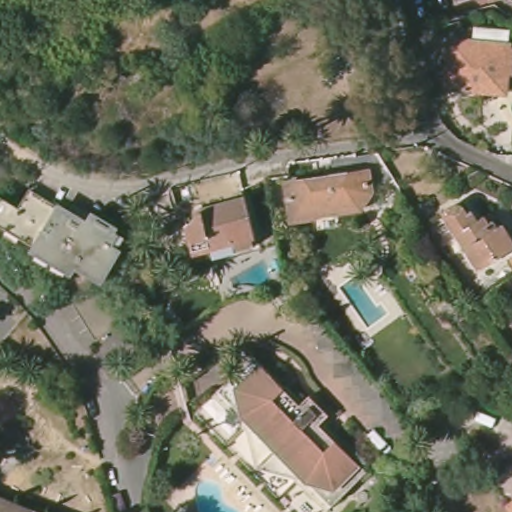pool: (340, 274, 388, 331), (192, 475, 236, 512), (226, 260, 273, 294)
